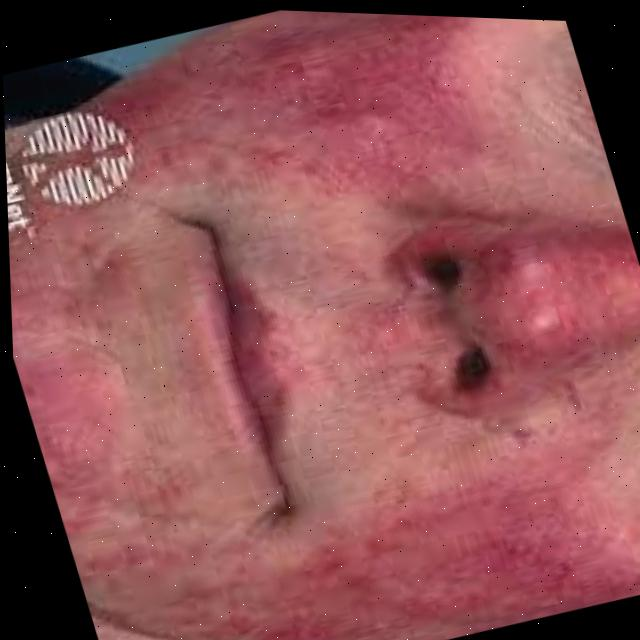Rosacea: (264, 380, 640, 640), (171, 6, 541, 240), (10, 265, 205, 602)
